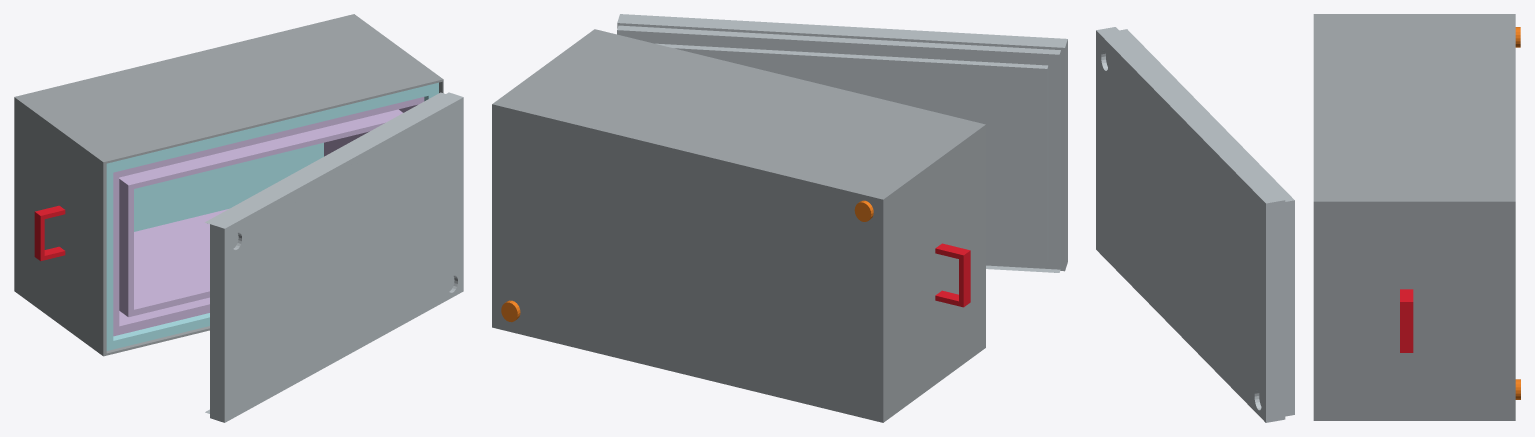
File: tinker.obj
The picture shows the model from 3 angles, left to right: view 1: azimuth 30°, elevation 25°; view 2: azimuth 150°, elevation 25°; view 3: azimuth 270°, elevation 25°; orthographic projection. The views are drawn at different scales.
Visible parts, largest first — view 1: obj_5, obj_0, obj_2, obj_1, obj_6; view 2: obj_0, obj_5, obj_6; view 3: obj_0, obj_5, obj_7.
Boxes of the visible parts, x1,y1,x2,y2 form: obj_5: (205,92,463,422); obj_0: (14,14,443,356); obj_2: (113,97,424,336); obj_1: (106,82,438,350); obj_6: (34,205,65,261); obj_0: (492,29,985,422); obj_5: (617,14,1067,272); obj_6: (935,243,970,307); obj_0: (1313,14,1515,420); obj_5: (1096,27,1294,422); obj_7: (1400,289,1413,352).
Size of the model in its own units: 188 by 91 by 158.
